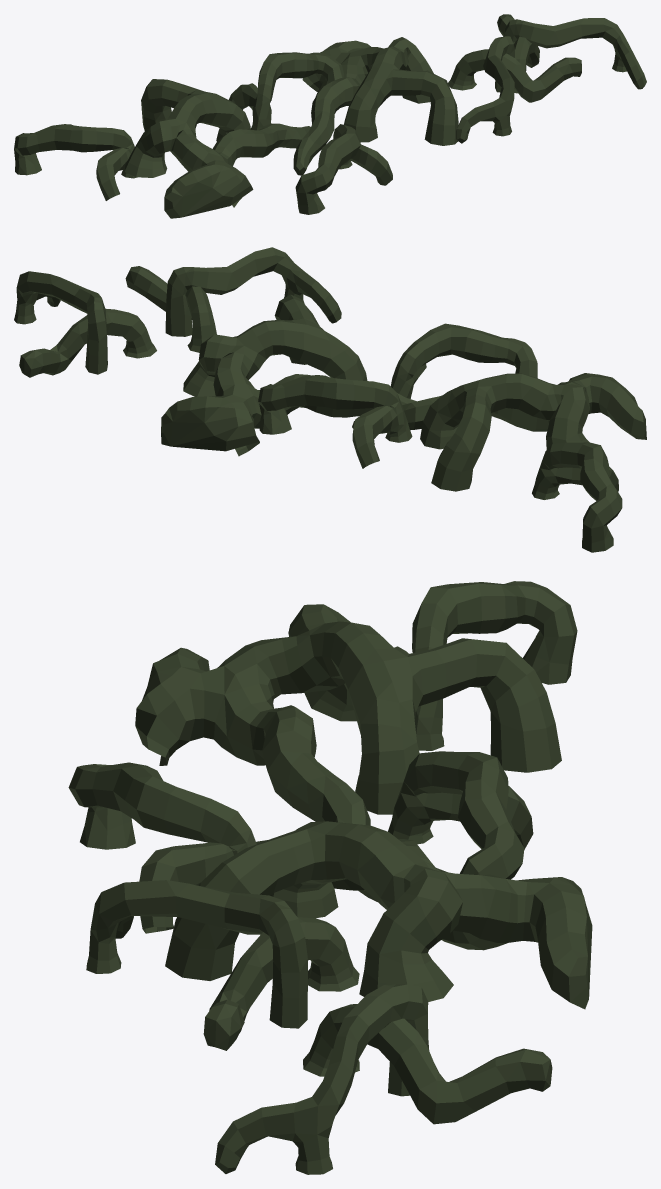
Rendered from EA_Swamp_Root_04d.glb.
3 views of the same model, one above another, from view 1: azimuth 30°, elevation 25°; view 2: azimuth 150°, elevation 25°; view 3: azimuth 270°, elevation 25° (orthographic). The views are drawn at different scales.
Parts seen in each view (by area): view 1: EA_Swamp_Root_04d; view 2: EA_Swamp_Root_04d; view 3: EA_Swamp_Root_04d.
Boxes of the visible parts, bbox=[...] form: EA_Swamp_Root_04d: bbox=[14, 14, 646, 218]; EA_Swamp_Root_04d: bbox=[14, 247, 646, 552]; EA_Swamp_Root_04d: bbox=[68, 581, 592, 1174].
Size of the model in its own units: 3.75 by 0.5635 by 1.52.
1 material, 1 textured.
